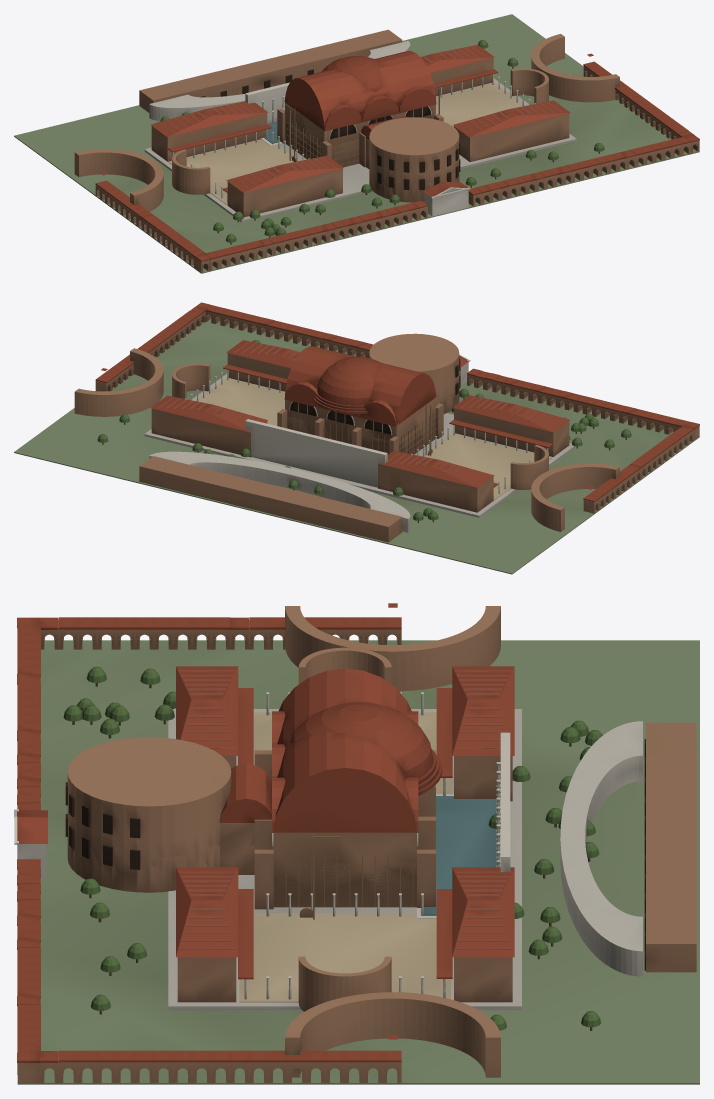
The model's file is baths-of-trajan-construction.glb.
The picture shows the model from 3 angles, top to bottom: view 1: azimuth 30°, elevation 25°; view 2: azimuth 150°, elevation 25°; view 3: azimuth 270°, elevation 25°; orthographic projection. The views are drawn at different scales.
Visible parts, largest first — view 1: p0_precinct, p1_site, p2_scaffold; view 2: p0_precinct, p1_site, p2_scaffold; view 3: p0_precinct, p1_site, p2_scaffold.
Boxes of the visible parts, left/top/right/bottom form: p0_precinct: left=14, top=14, right=699, bottom=273; p1_site: left=149, top=39, right=604, bottom=244; p2_scaffold: left=101, top=45, right=593, bottom=198; p0_precinct: left=14, top=302, right=699, bottom=574; p1_site: left=97, top=333, right=631, bottom=532; p2_scaffold: left=101, top=340, right=593, bottom=489; p0_precinct: left=17, top=606, right=699, bottom=1084; p1_site: left=63, top=647, right=642, bottom=1030; p2_scaffold: left=14, top=603, right=514, bottom=1039.
Bounding box in the file's own units: 330 × 52.91 × 216.
